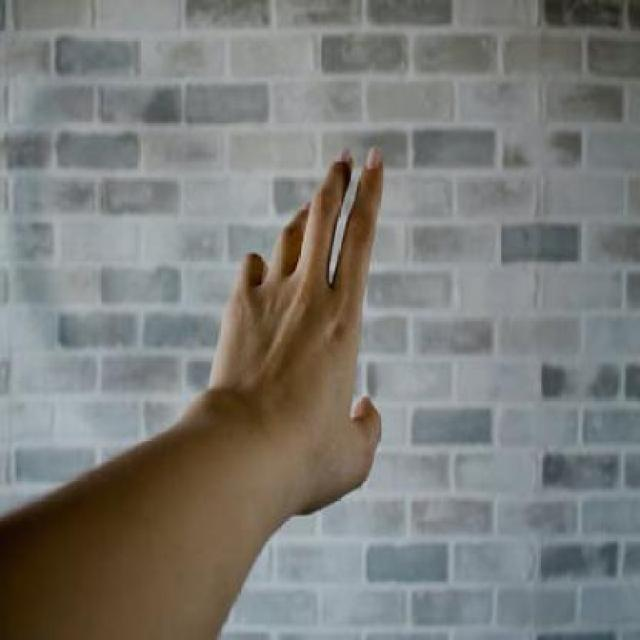no_apron: (208, 148, 402, 536)
